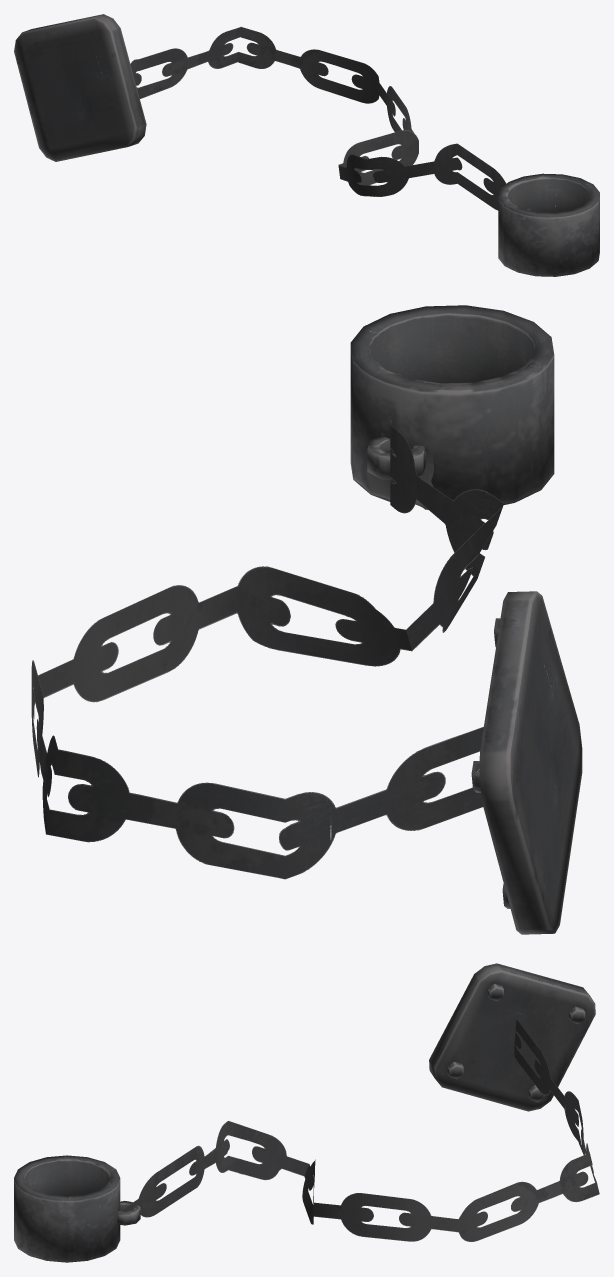
The model's file is chain.fbx.
3 views of the same model, one above another, from view 1: azimuth 30°, elevation 25°; view 2: azimuth 150°, elevation 25°; view 3: azimuth 270°, elevation 25° (orthographic). The views are drawn at different scales.
Visible parts, largest first — view 1: chain_low; view 2: chain_low; view 3: chain_low.
Part boxes in pixels (box(x1,y1,x2,y2)): chain_low: box(14, 14, 599, 276); chain_low: box(31, 305, 582, 934); chain_low: box(14, 963, 599, 1262).
Size of the model in its own units: 39.87 by 17.37 by 59.73.
